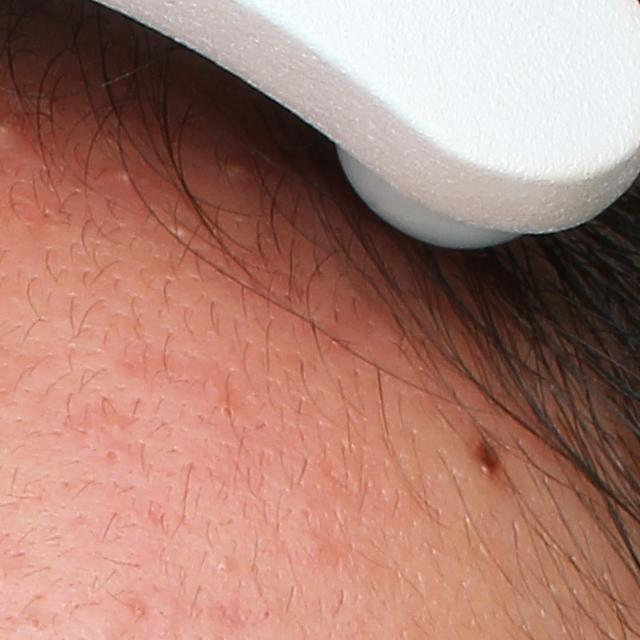comedo: (103, 446, 122, 465), (216, 560, 230, 575)
nevus: (470, 427, 513, 485)
